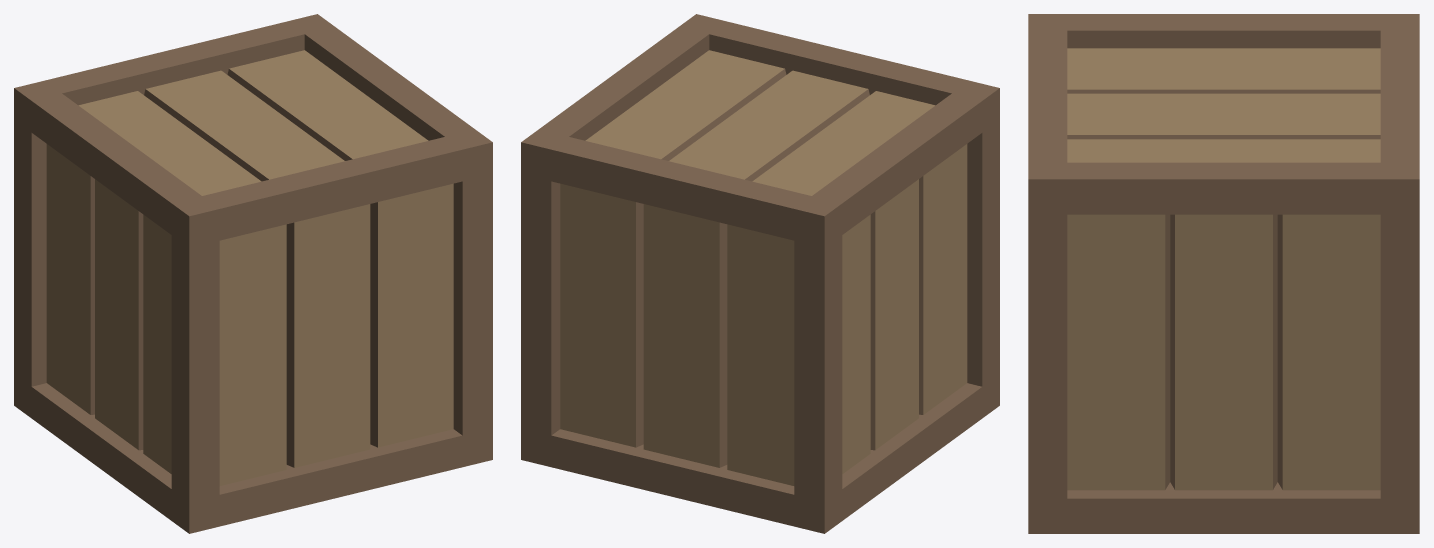
The model's file is crate.obj.
3 views of the same model, side by side, from view 1: azimuth 30°, elevation 25°; view 2: azimuth 150°, elevation 25°; view 3: azimuth 270°, elevation 25° (orthographic). The views are drawn at different scales.
Visible parts, largest first — view 1: Caja_Cerrada_object7.007; view 2: Caja_Cerrada_object7.007; view 3: Caja_Cerrada_object7.007.
Part boxes in pixels (x1,y1,x2,y2): Caja_Cerrada_object7.007: [14, 14, 492, 533]; Caja_Cerrada_object7.007: [521, 14, 999, 533]; Caja_Cerrada_object7.007: [1028, 14, 1419, 533].
Size of the model in its own units: 1 by 1 by 1.
